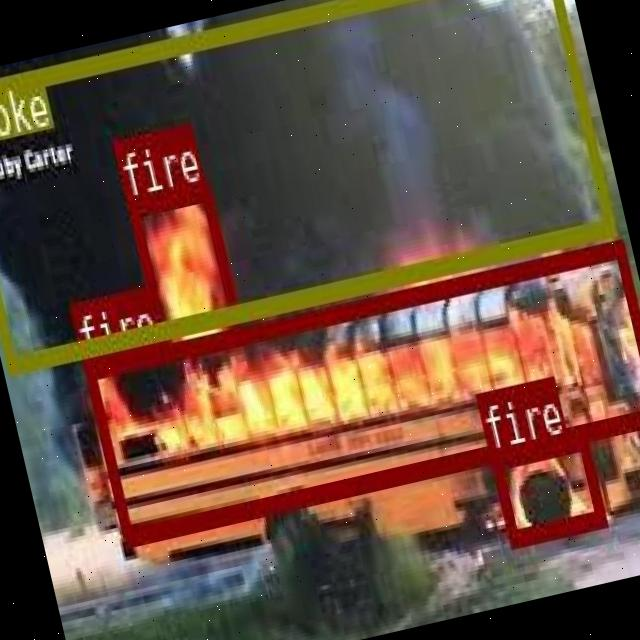fire: (82, 238, 640, 541), (126, 182, 243, 360), (488, 432, 604, 542)
smoke: (0, 0, 612, 369)
